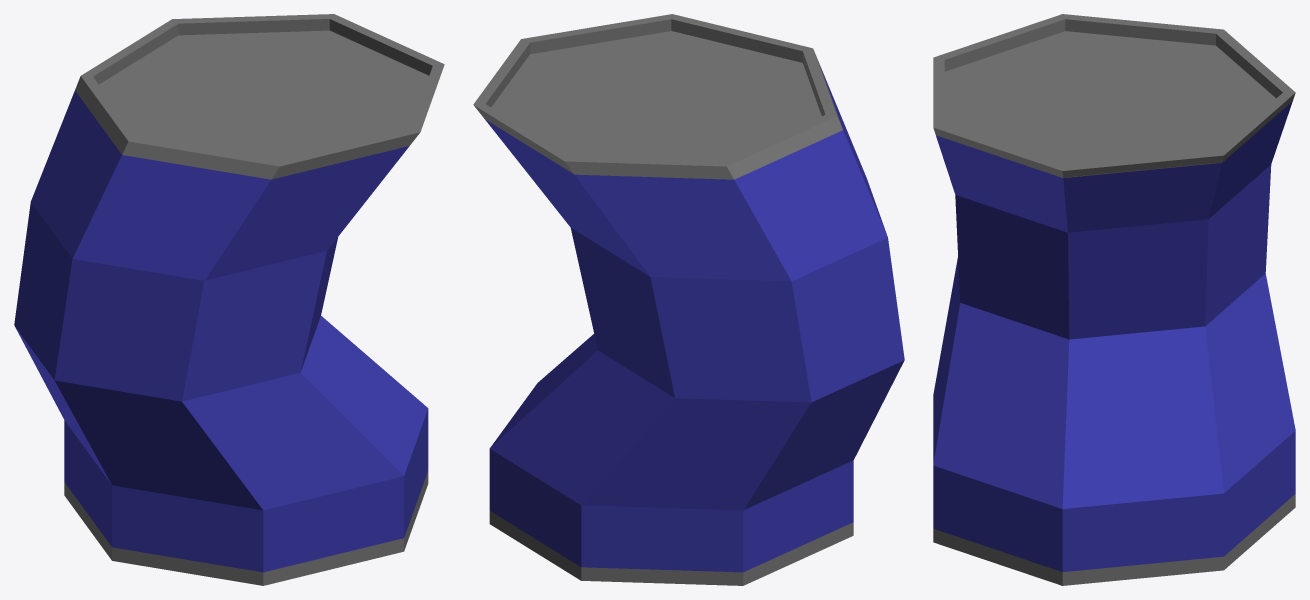
The model's file is BlueCan002.fbx.
3 renders of one model, left to right at view 1: azimuth 30°, elevation 25°; view 2: azimuth 150°, elevation 25°; view 3: azimuth 270°, elevation 25°, orthographic.
Parts seen in each view (by area): view 1: CanBlue002; view 2: CanBlue002; view 3: CanBlue002.
Part boxes in pixels (x1,y1,x2,y2): CanBlue002: (14,14,444,585); CanBlue002: (473,14,904,585); CanBlue002: (933,14,1295,585).
Size of the model in its own units: 81.72 by 83.83 by 65.11.
